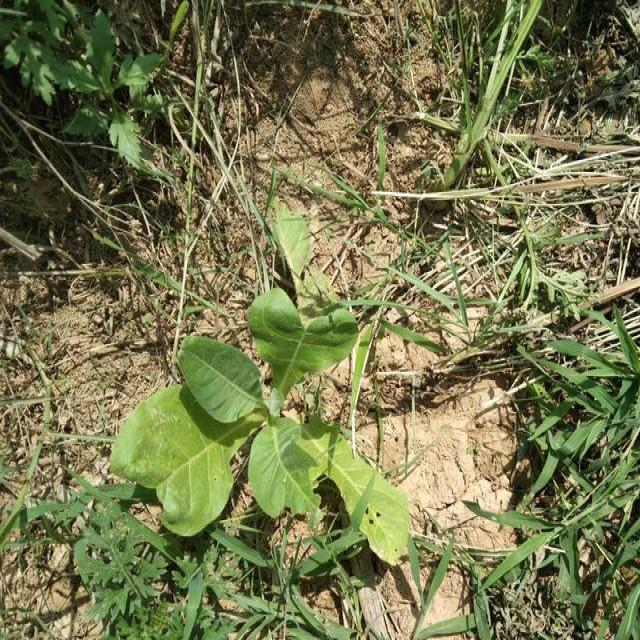crop: (109, 279, 413, 570)
